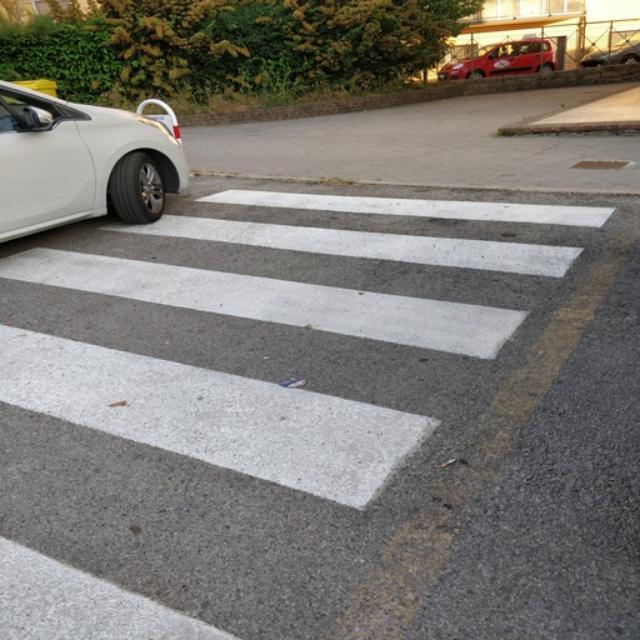sidewalk: (0, 179, 618, 640)
